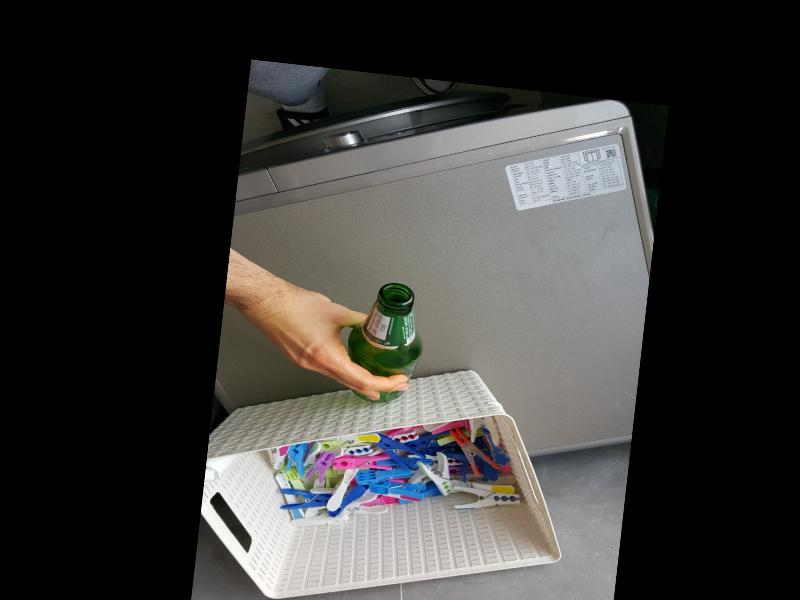Beer: (342, 278, 429, 406)
